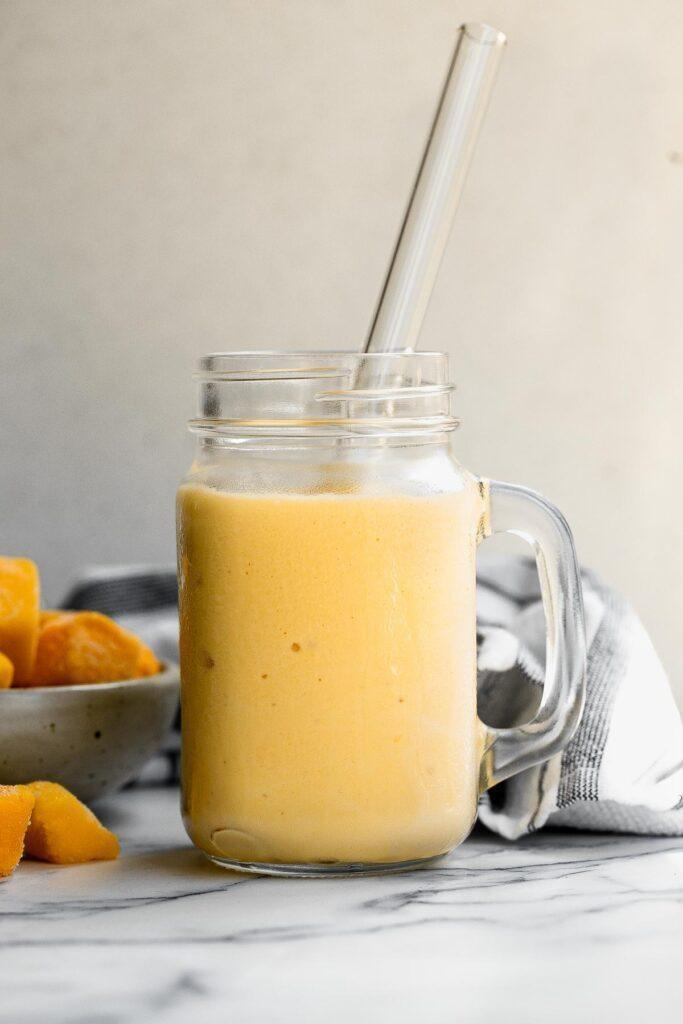glass-mug: (165, 341, 587, 874)
